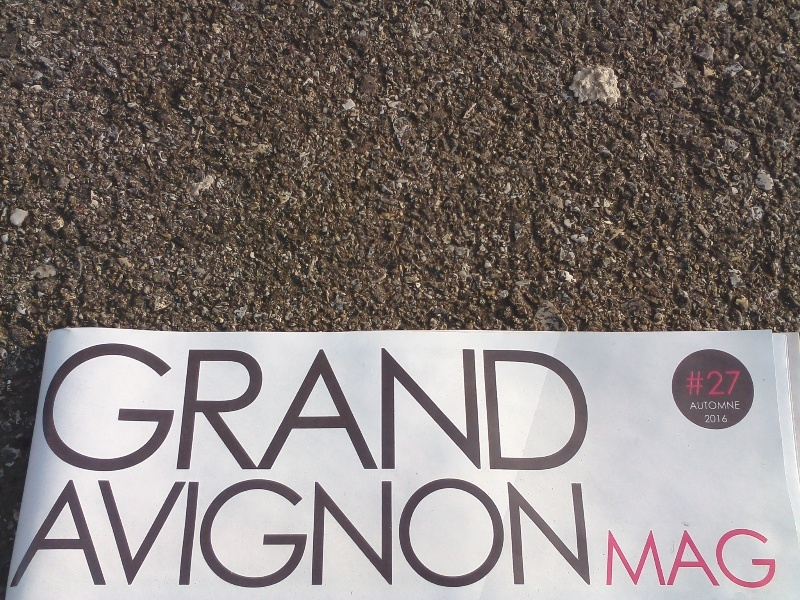text: (49, 340, 64, 478), (65, 340, 80, 478), (81, 340, 96, 478), (97, 340, 112, 478), (113, 340, 128, 478), (129, 340, 144, 478), (145, 340, 160, 478), (161, 340, 176, 478), (177, 340, 192, 478), (193, 340, 208, 478), (209, 340, 224, 478), (225, 340, 240, 478), (241, 340, 256, 478), (257, 340, 272, 478), (273, 340, 288, 478), (289, 340, 304, 478), (305, 340, 320, 478), (321, 340, 336, 478), (337, 340, 352, 478), (353, 340, 368, 478), (369, 340, 384, 478), (385, 340, 400, 478), (401, 340, 416, 478), (417, 340, 432, 478), (433, 340, 448, 478), (449, 340, 464, 478), (465, 340, 480, 478), (481, 340, 496, 478), (497, 340, 512, 478), (513, 340, 528, 478), (529, 340, 544, 478), (545, 340, 560, 478), (561, 340, 576, 478), (577, 340, 592, 478), (81, 477, 96, 590), (97, 477, 112, 590), (113, 477, 128, 590), (129, 477, 144, 590), (145, 477, 160, 590), (161, 477, 176, 590), (177, 477, 192, 590), (193, 477, 208, 590), (209, 477, 224, 590), (225, 477, 240, 590), (241, 477, 256, 590), (257, 477, 272, 590), (273, 477, 288, 590), (289, 477, 304, 590), (305, 477, 320, 590), (321, 477, 336, 590), (337, 477, 352, 590), (353, 477, 368, 590), (369, 477, 384, 590), (385, 477, 400, 590), (401, 477, 416, 590), (417, 477, 432, 590), (433, 477, 448, 590), (449, 477, 464, 590), (465, 477, 480, 590), (481, 477, 496, 590), (497, 477, 512, 590), (513, 477, 528, 590), (529, 477, 544, 590), (545, 477, 560, 590), (561, 477, 576, 590), (577, 477, 592, 590), (67, 477, 80, 590), (41, 340, 48, 478), (609, 526, 624, 590), (625, 526, 640, 590), (641, 526, 656, 590), (657, 526, 672, 590), (673, 526, 688, 590), (689, 526, 704, 590), (705, 526, 720, 590), (721, 526, 736, 590), (737, 526, 752, 590), (753, 526, 768, 590), (769, 526, 778, 590), (593, 477, 597, 590), (689, 367, 704, 397), (705, 367, 720, 397), (721, 367, 736, 397), (601, 526, 608, 590), (737, 367, 744, 397), (593, 340, 594, 478), (689, 401, 704, 410), (705, 401, 720, 410), (721, 401, 736, 410), (705, 415, 720, 424), (721, 415, 728, 424), (686, 367, 688, 397), (737, 401, 742, 410)
